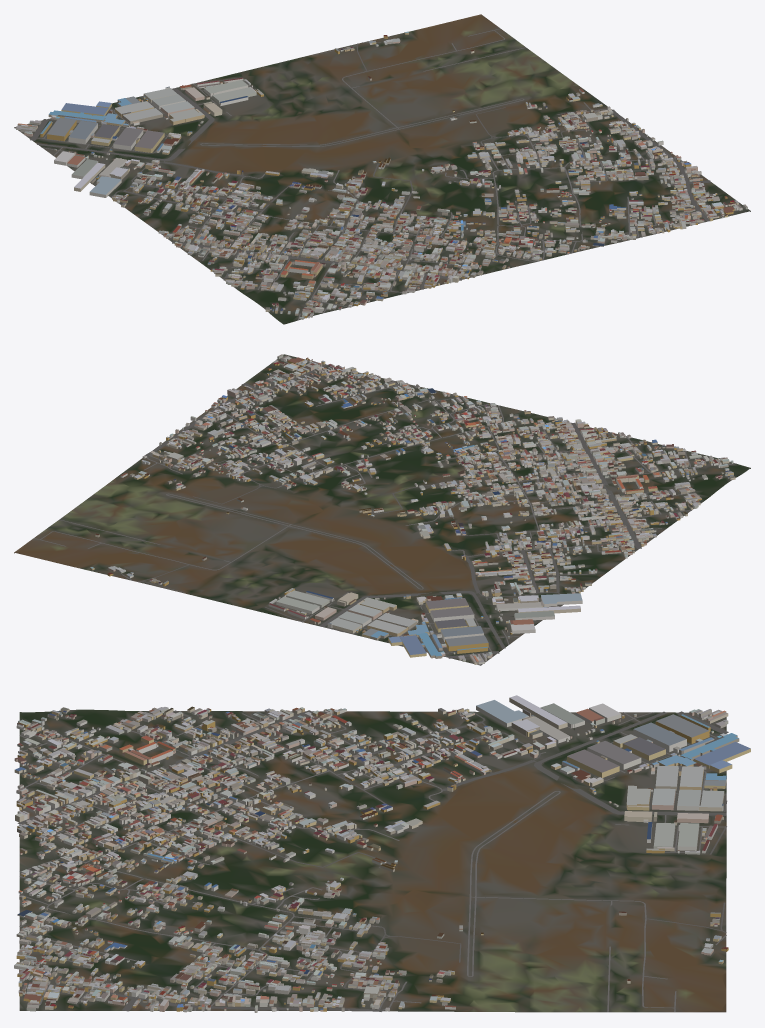
3 renders of one model, top to bottom at view 1: azimuth 30°, elevation 25°; view 2: azimuth 150°, elevation 25°; view 3: azimuth 270°, elevation 25°, orthographic. The views are drawn at different scales.
Visible parts, largest first — view 1: ground, buildings, roads; view 2: ground, buildings, roads; view 3: ground, buildings, roads.
Boxes of the visible parts, bbox=[...] form: ground: bbox=[14, 14, 750, 324]; buildings: bbox=[16, 31, 747, 319]; roads: bbox=[15, 28, 720, 320]; ground: bbox=[14, 354, 750, 665]; buildings: bbox=[90, 354, 735, 664]; roads: bbox=[34, 362, 736, 664]; ground: bbox=[19, 709, 726, 1012]; buildings: bbox=[14, 695, 750, 1012]; roads: bbox=[17, 710, 728, 1012].
Size of the model in its own units: 1467 by 22.84 by 1460.
